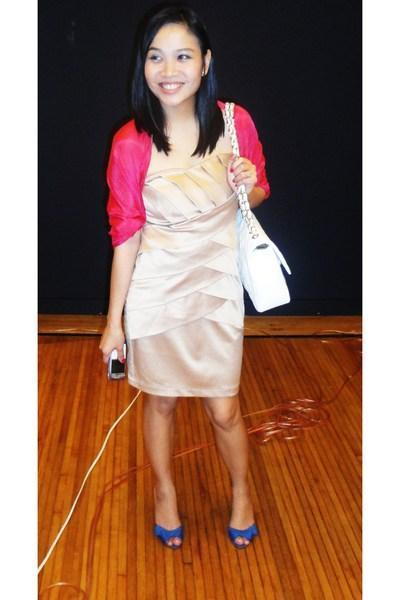bag: (216, 102, 290, 311)
dress: (112, 144, 246, 396)
jacket: (107, 108, 269, 249)
shoe: (156, 524, 257, 547)
